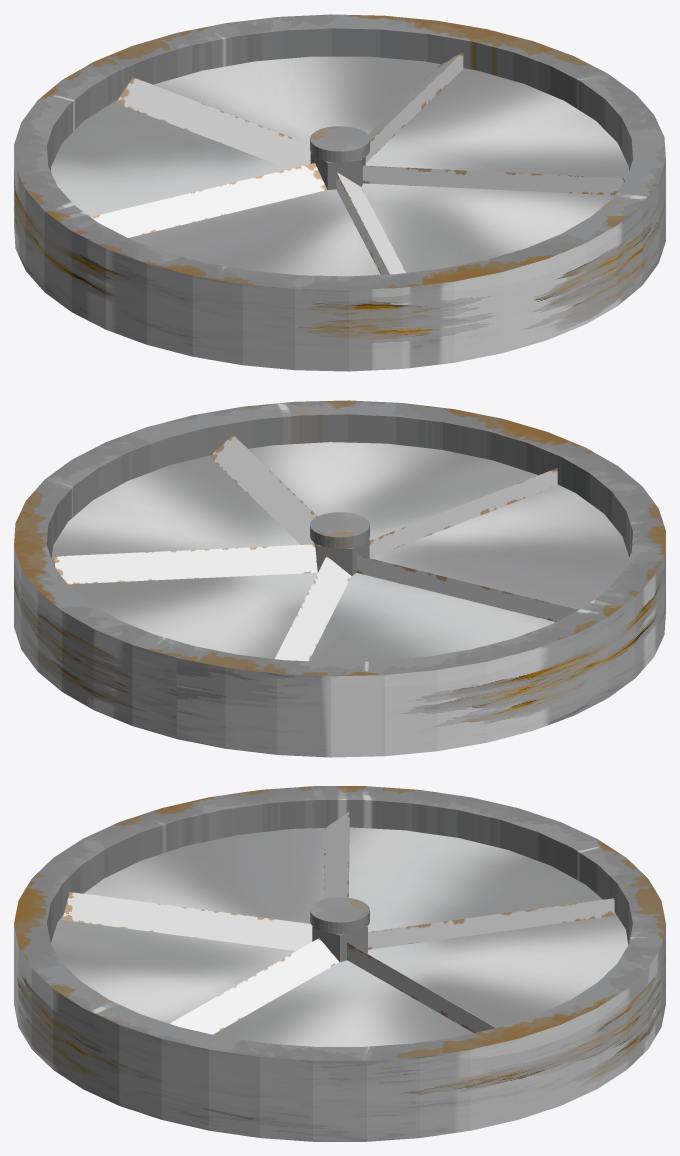
File: giantfan.fbx
3 views of the same model, one above another, from view 1: azimuth 30°, elevation 25°; view 2: azimuth 150°, elevation 25°; view 3: azimuth 270°, elevation 25° (orthographic).
Visible parts, largest first — view 1: Cylinder, Cylinder.001; view 2: Cylinder, Cylinder.001; view 3: Cylinder, Cylinder.001.
Part boxes in pixels (x1,y1,x2,y2): Cylinder: [14, 14, 665, 371]; Cylinder.001: [51, 52, 628, 276]; Cylinder: [14, 400, 665, 757]; Cylinder.001: [51, 434, 628, 662]; Cylinder: [14, 786, 665, 1141]; Cylinder.001: [51, 811, 628, 1046].
Bounding box in the file's own units: 495 × 79.59 × 497.
